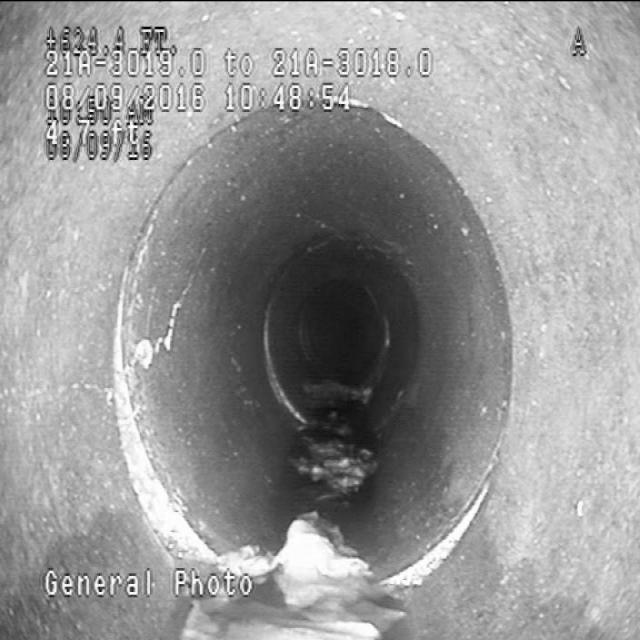Crack: (50, 277, 192, 437)
